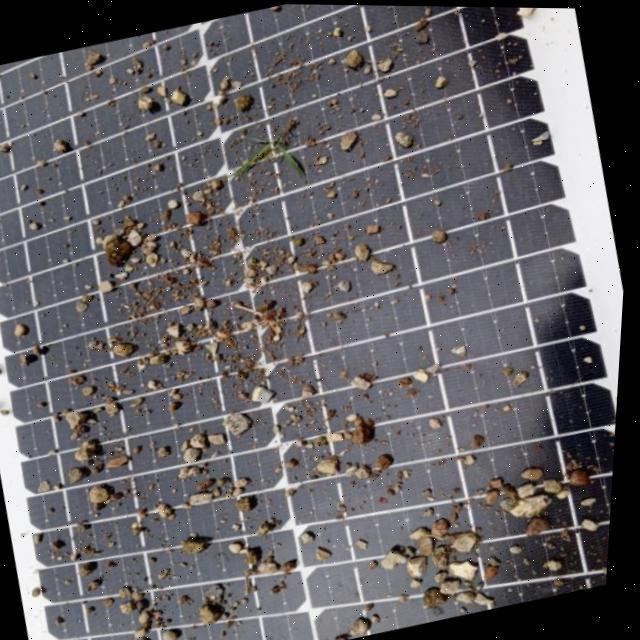Surface Contaminant: (0, 3, 627, 640)
